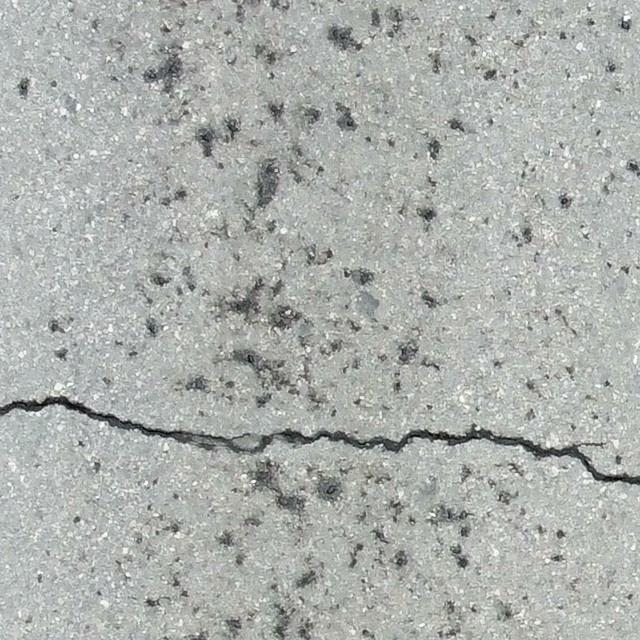TransverseCrack: (1, 395, 640, 485)
